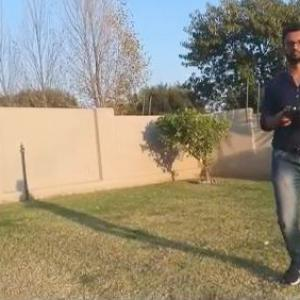follow: (256, 18, 300, 292)
